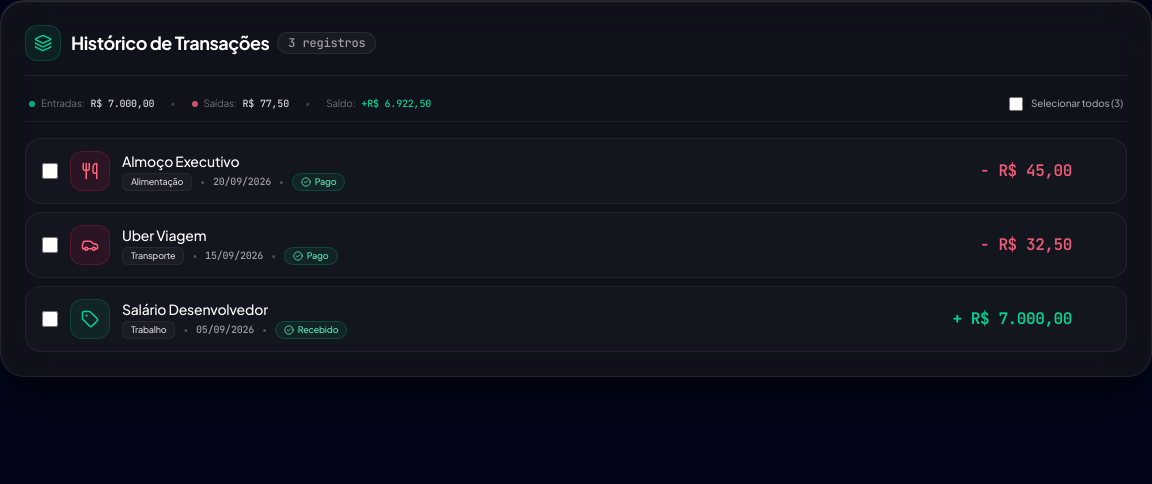
Scenario: <TransactionList /> (Ações Rápidas no Extrato & Seleção em Massa) › deve selecionar todas as transações da página pelo checkbox geral
This screenshot has width=1152, height=484.
Click the checkbox with test id "select-all-page-checkbox". click: (1016, 104)
box: 1009,96 -> 1023,110
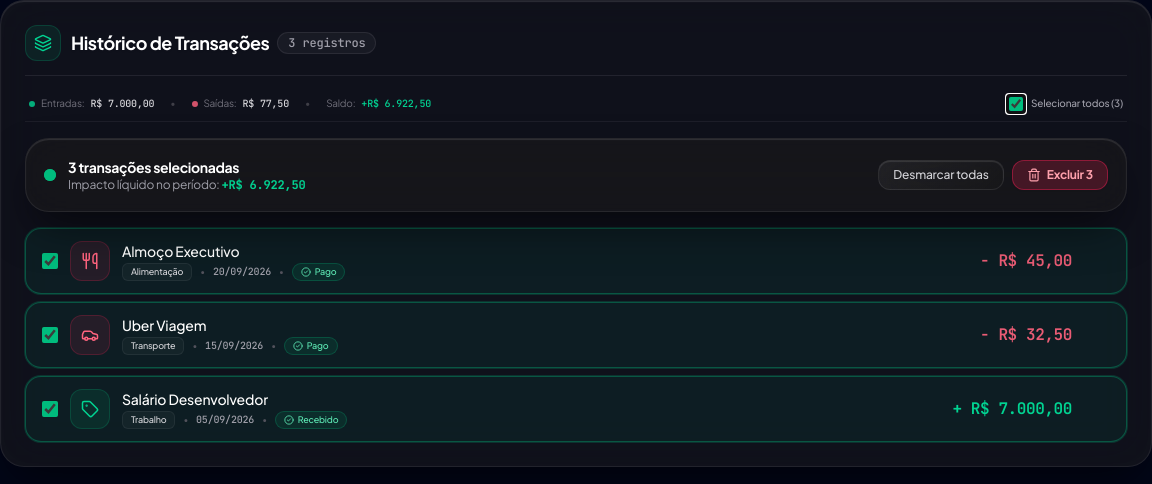
Result: the element with test id "bulk-action-bar" is shown at 25,138 -> 1127,212
Result: the text "3 transações selecionadas" is shown at 68,158 -> 239,176
Desmarcar todas pelo checkbox geral
Click the checkbox with test id "select-all-page-checkbox". click: (1016, 104)
box: 1009,96 -> 1023,110
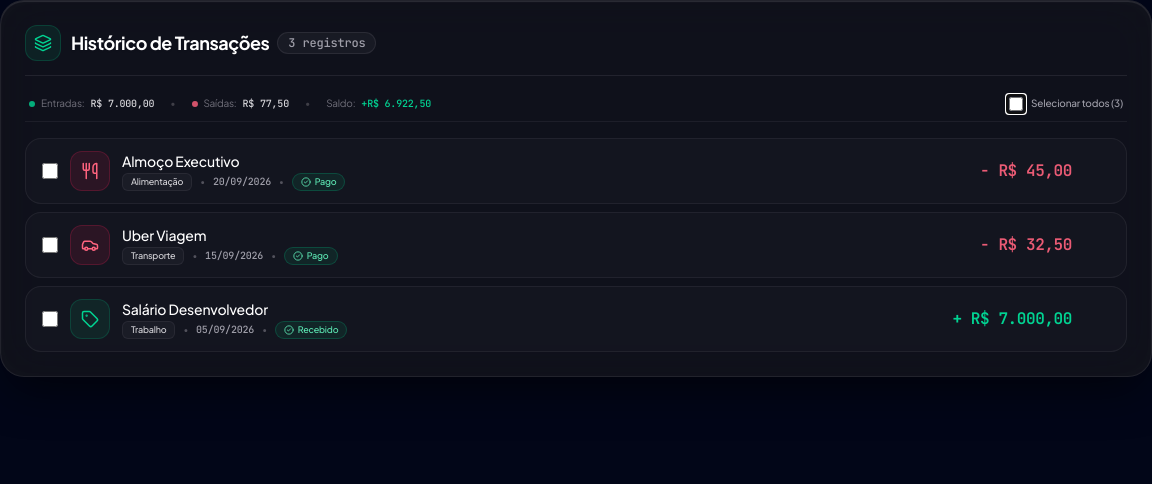
Result: the element with test id "bulk-action-bar" is gone
